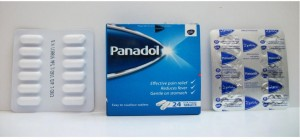Medicine: (102, 21, 205, 118), (207, 26, 293, 115)
